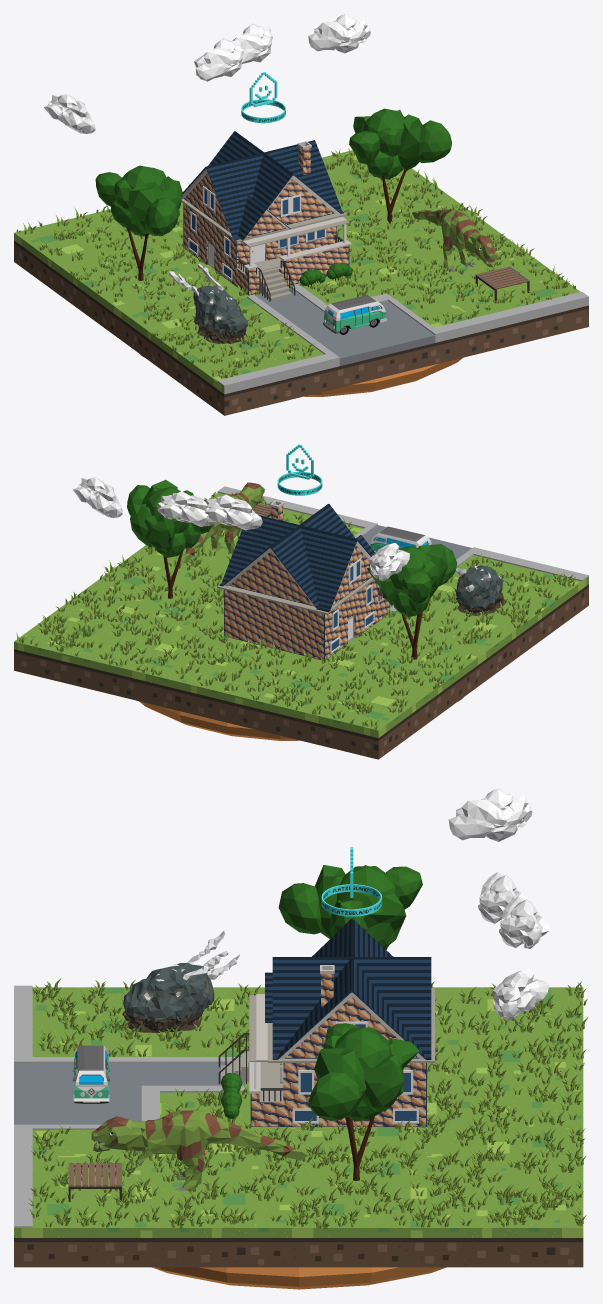
3 views of the same model, one above another, from view 1: azimuth 30°, elevation 25°; view 2: azimuth 150°, elevation 25°; view 3: azimuth 270°, elevation 25° (orthographic). The views are drawn at different scales.
Parts seen in each view (by area): view 1: Cube.006, Cube.430, Circle.012_Grass_0.192, Cube.007, tree, tree.001, OBJRANDOM_METEORITE, ANIMAL_TREX, VEHICLES_VAN, UNDERGROUND_PIZZA, TYPE_PREMIUM, Cube.009; view 2: Cube.006, Cube.430, Circle.012_Grass_0.192, Cube.007, tree.001, tree, OBJRANDOM_METEORITE, UNDERGROUND_PIZZA, ANIMAL_TREX, VEHICLES_VAN, TYPE_PREMIUM; view 3: Cube.006, Circle.012_Grass_0.192, Cube.430, tree, Cube.007, tree.001, ANIMAL_TREX, OBJRANDOM_METEORITE, UNDERGROUND_PIZZA, VEHICLES_VAN, Cube.009, TYPE_PREMIUM.
Boxes of the visible parts, x1,y1,x2,y2 form: Cube.006: (14, 150, 588, 415); Cube.430: (181, 131, 351, 301); Circle.012_Grass_0.192: (16, 148, 575, 378); Cube.007: (44, 14, 370, 133); tree: (349, 108, 451, 223); tree.001: (95, 165, 182, 280); OBJRANDOM_METEORITE: (169, 264, 247, 343); ANIMAL_TREX: (412, 208, 497, 271); VEHICLES_VAN: (323, 295, 387, 334); UNDERGROUND_PIZZA: (139, 353, 462, 396); TYPE_PREMIUM: (241, 72, 285, 123); Cube.009: (475, 266, 529, 300); Cube.006: (14, 486, 588, 759); Cube.430: (217, 500, 389, 660); Circle.012_Grass_0.192: (16, 491, 575, 729); Cube.007: (73, 477, 409, 581); tree.001: (367, 544, 457, 659); tree: (127, 479, 212, 598); OBJRANDOM_METEORITE: (455, 565, 504, 615); UNDERGROUND_PIZZA: (139, 697, 463, 741); ANIMAL_TREX: (180, 482, 264, 562); VEHICLES_VAN: (370, 526, 431, 552); TYPE_PREMIUM: (277, 444, 322, 495); Cube.006: (14, 985, 583, 1267); Circle.012_Grass_0.192: (29, 978, 588, 1229); Cube.430: (218, 919, 434, 1126); tree: (308, 1023, 419, 1180); Cube.007: (448, 788, 549, 1020); tree.001: (278, 865, 422, 949); ANIMAL_TREX: (91, 1110, 308, 1191); OBJRANDOM_METEORITE: (122, 930, 239, 1032); UNDERGROUND_PIZZA: (152, 1267, 446, 1289); VEHICLES_VAN: (73, 1045, 109, 1103); Cube.009: (68, 1162, 121, 1201); TYPE_PREMIUM: (321, 847, 381, 916).
Bounding box in the file's own units: 4071 × 2512 × 4040.
Materials: 46 (5 with a texture image).
